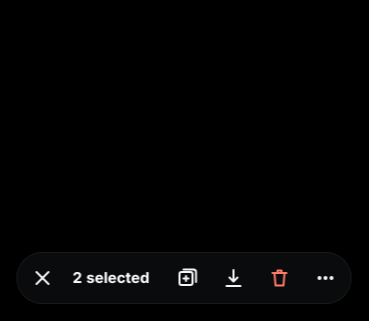
Test: the selection pill on a device without a share sheet › on a phone: Add to album, Download, Move to trash, then More with Fix date
What coordinates should you click on to do the following:
click the button named "More"
I would click on:
 (326, 278)
Its box is [304,256,348,300].
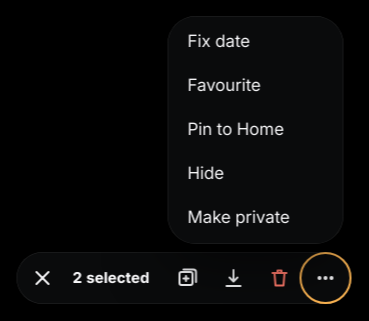
Expected: the button "Fix date" is shown, [172,20,340,64]
